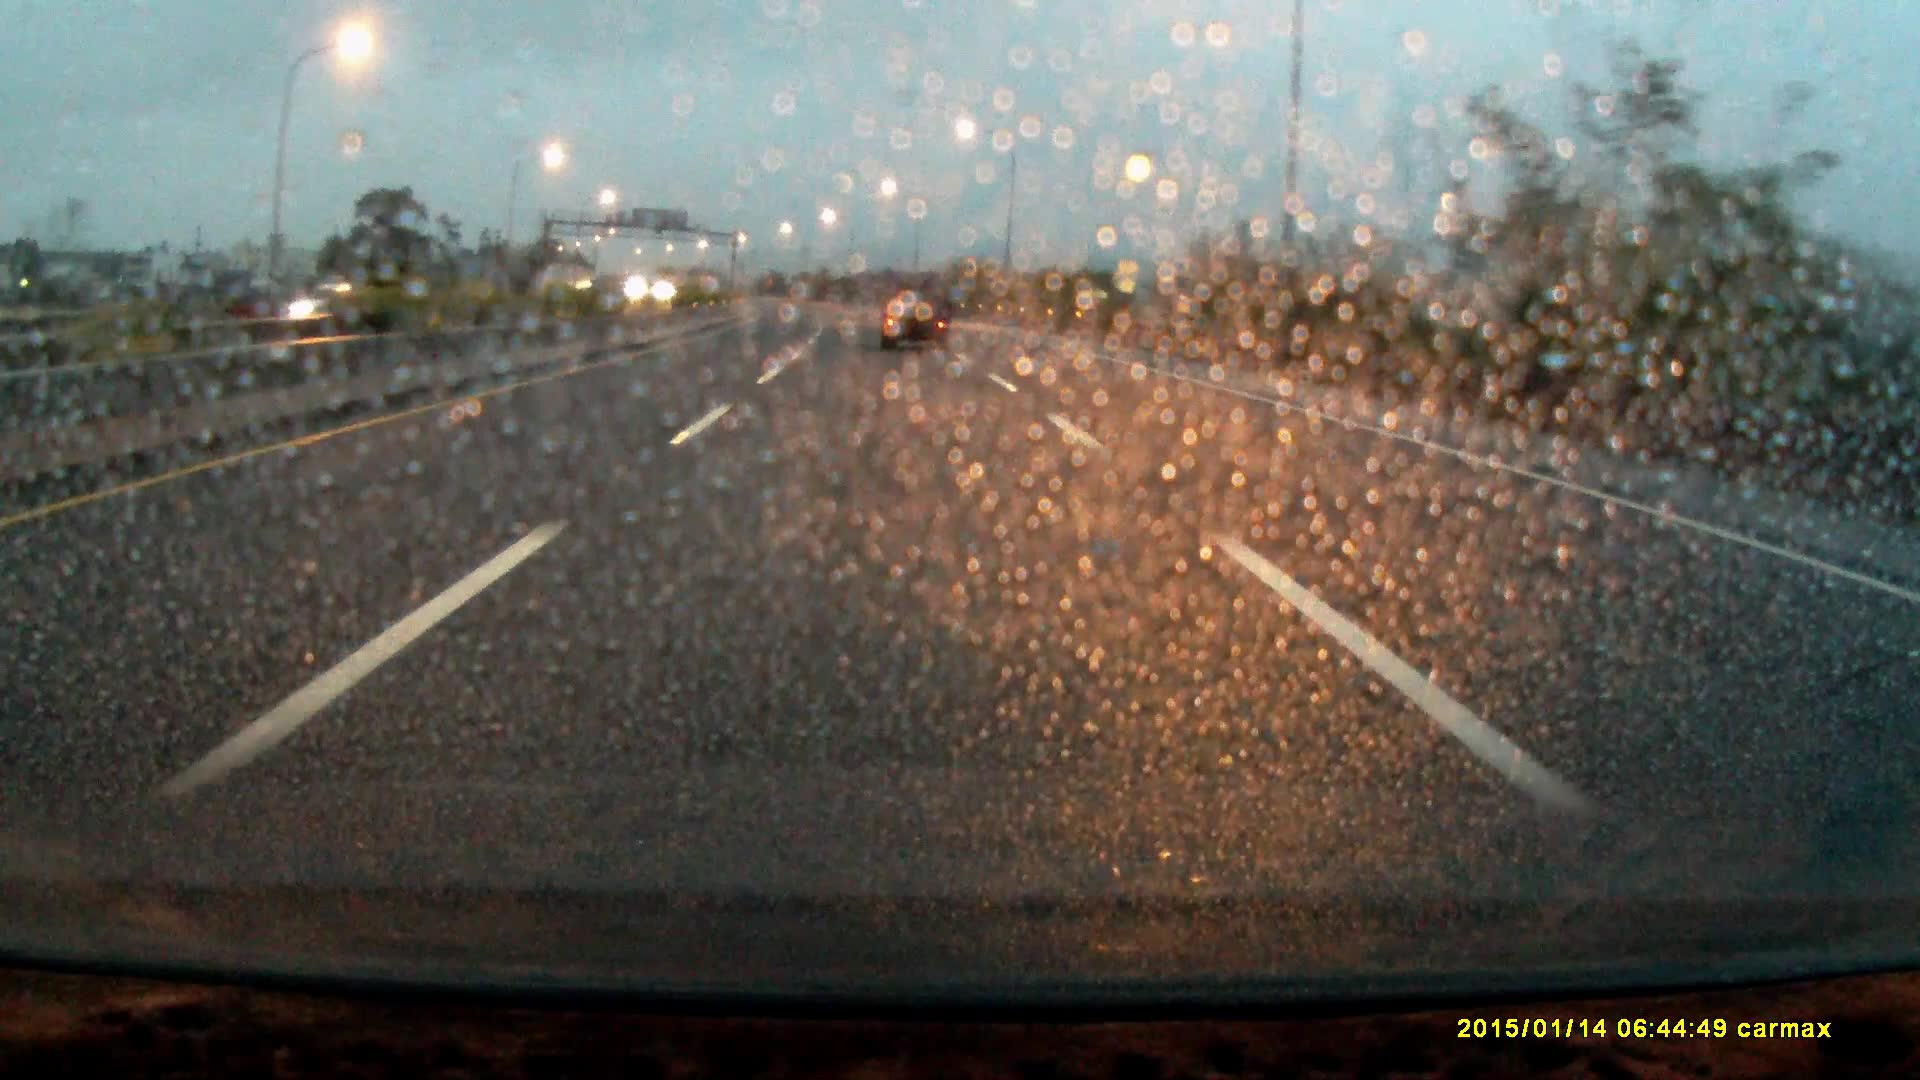vehicle: (880, 269, 949, 353), (290, 284, 367, 320)
